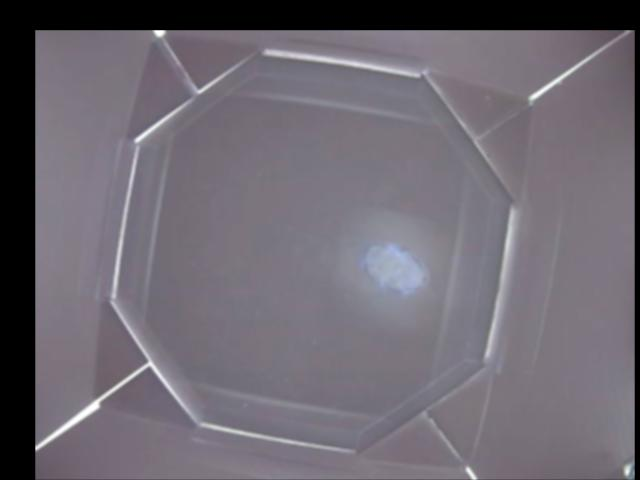Pebble: (364, 238, 427, 296)
